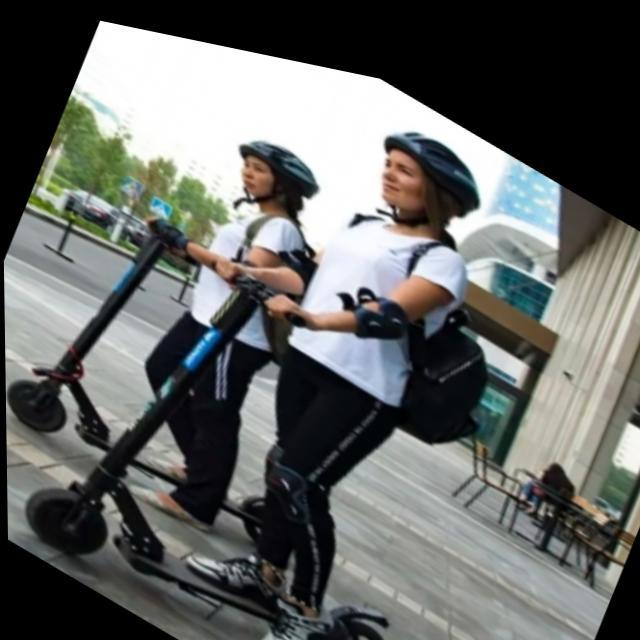Helmet: (374, 123, 490, 234), (226, 133, 326, 216)
